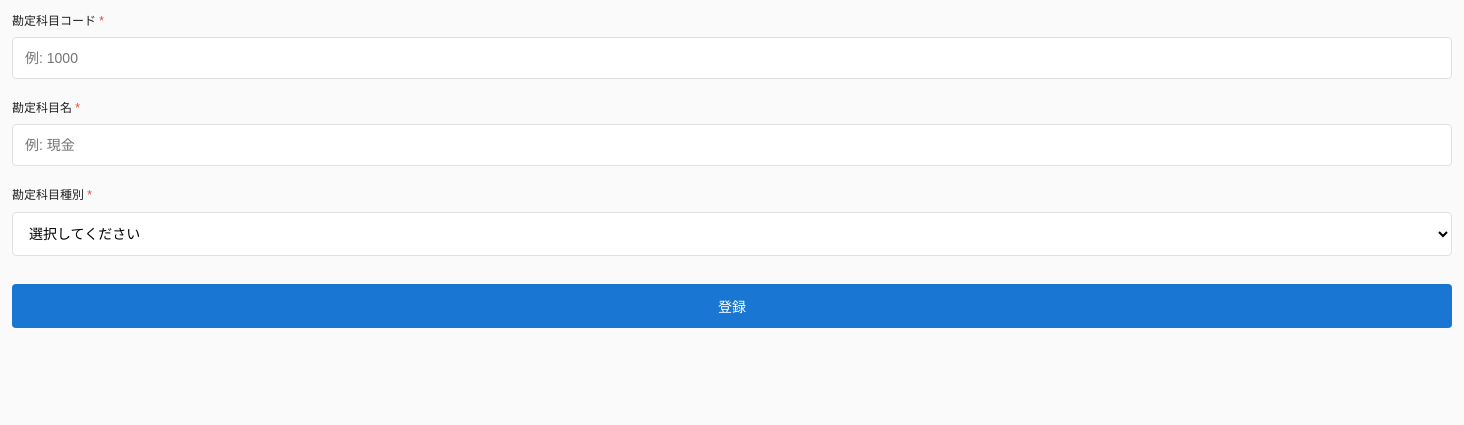
Test: CreateAccountForm › shows error message on registration failure response
Type "1000" into the field with test id "create-account-code-input" at (732,58), box x1=12 y1=37 x2=1452 y2=79
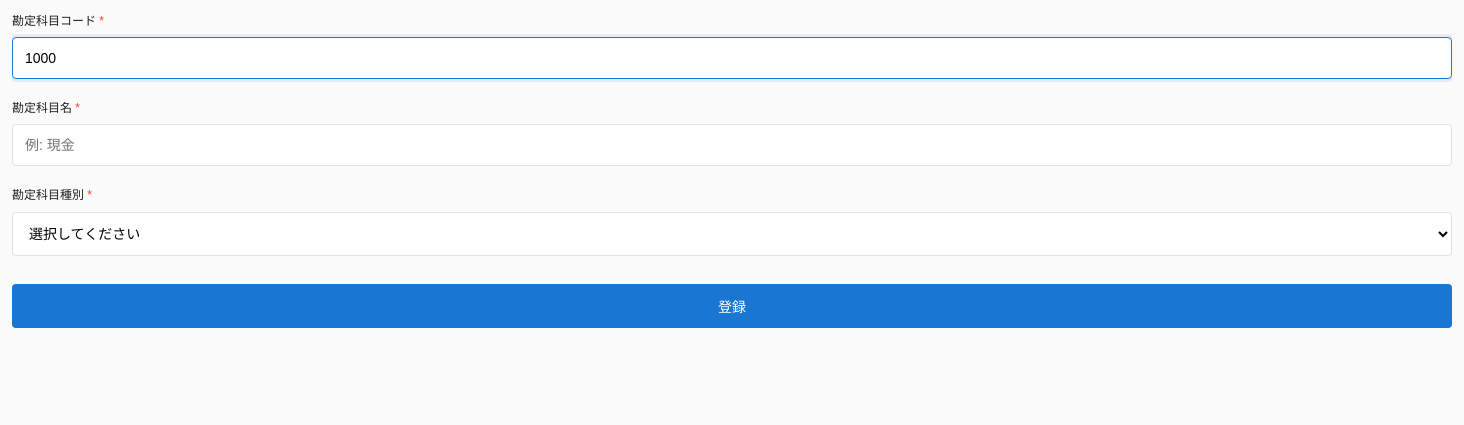
Type "現金" into the field with test id "create-account-name-input" at (732,145), box x1=12 y1=124 x2=1452 y2=166
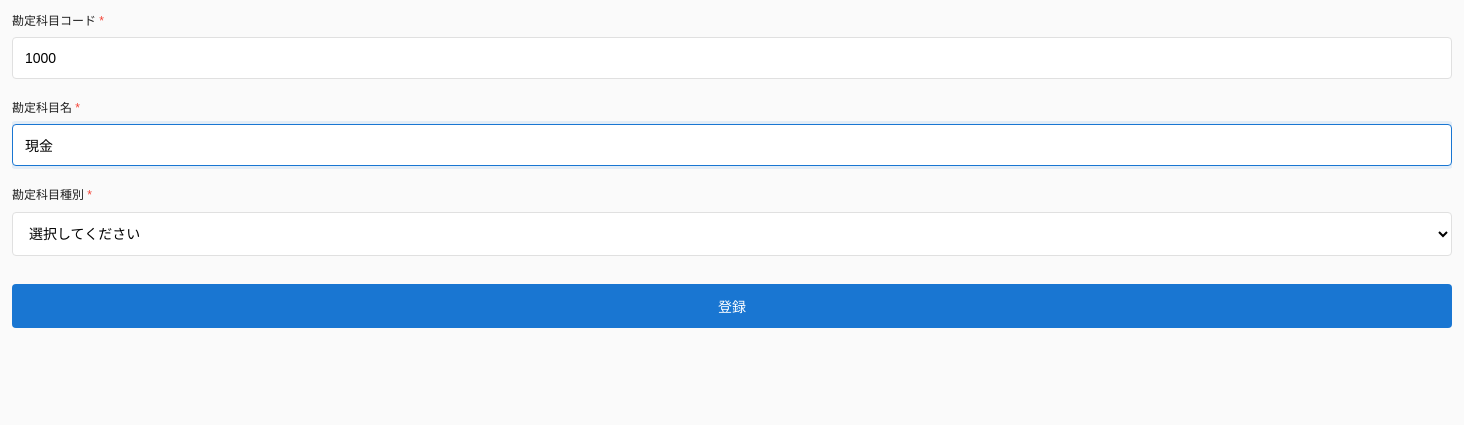
Select "ASSET" in the dropdown with test id "create-account-type-select" at (732,234), box x1=12 y1=212 x2=1452 y2=256
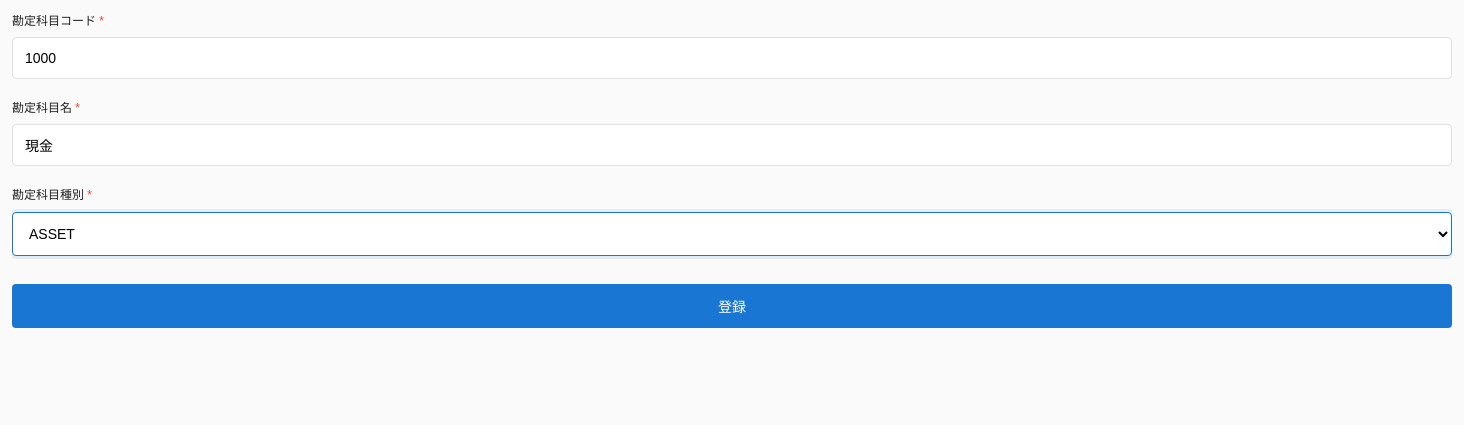
Click the button with test id "create-account-submit" at (732,306), box x1=12 y1=284 x2=1452 y2=328
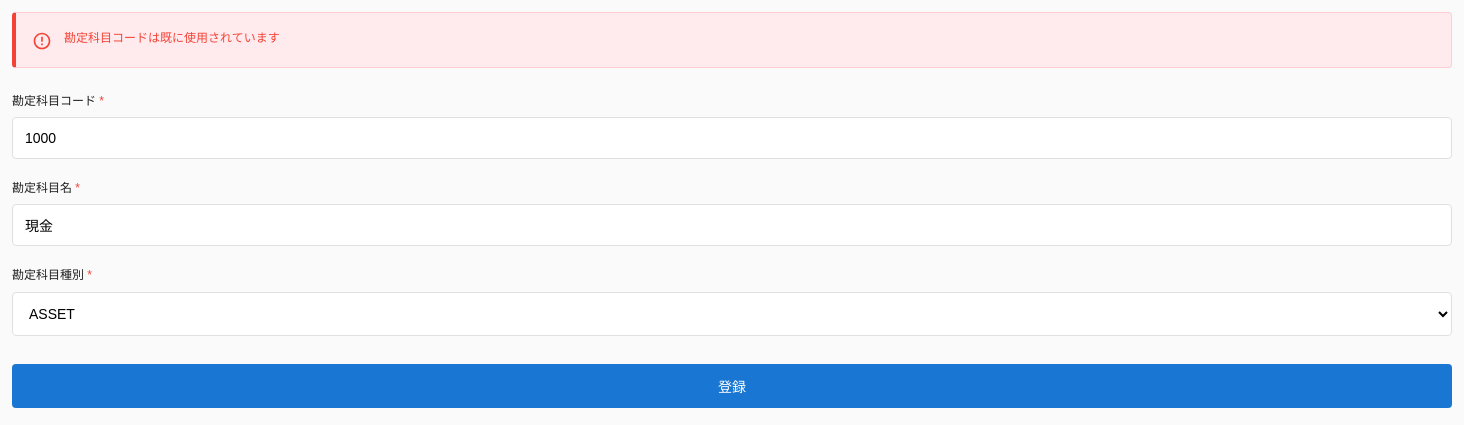
Check: the message "勘定科目コードは既に使用されています" is shown, box x1=12 y1=12 x2=1452 y2=68
Check: the text "勘定科目コードは既に使用されています" is shown, box x1=64 y1=31 x2=280 y2=45
